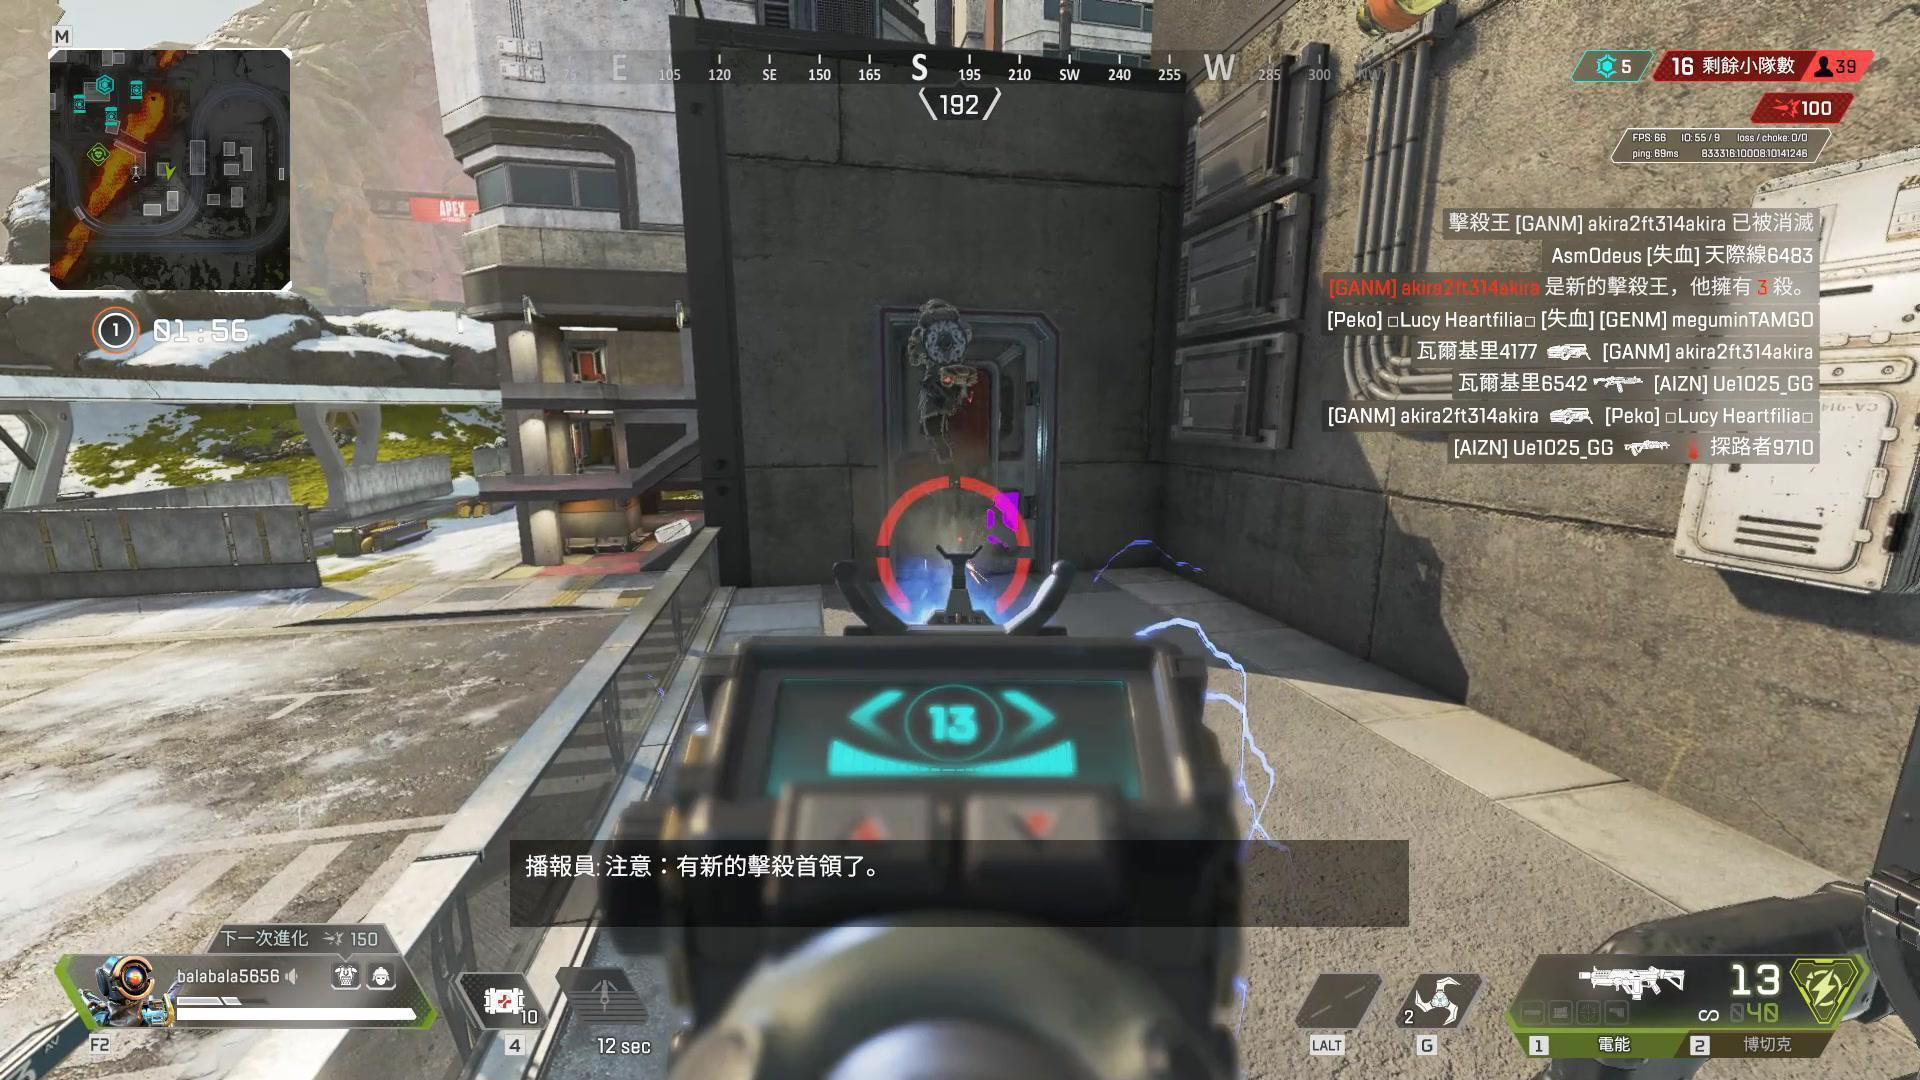avatar: (906, 297, 978, 466)
